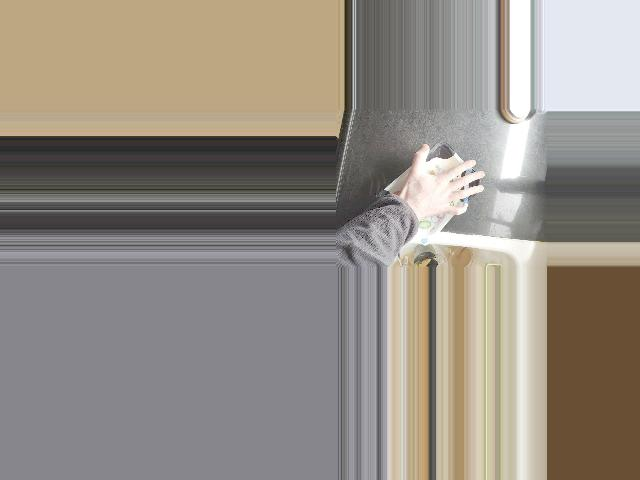cheese: (376, 141, 483, 249)
